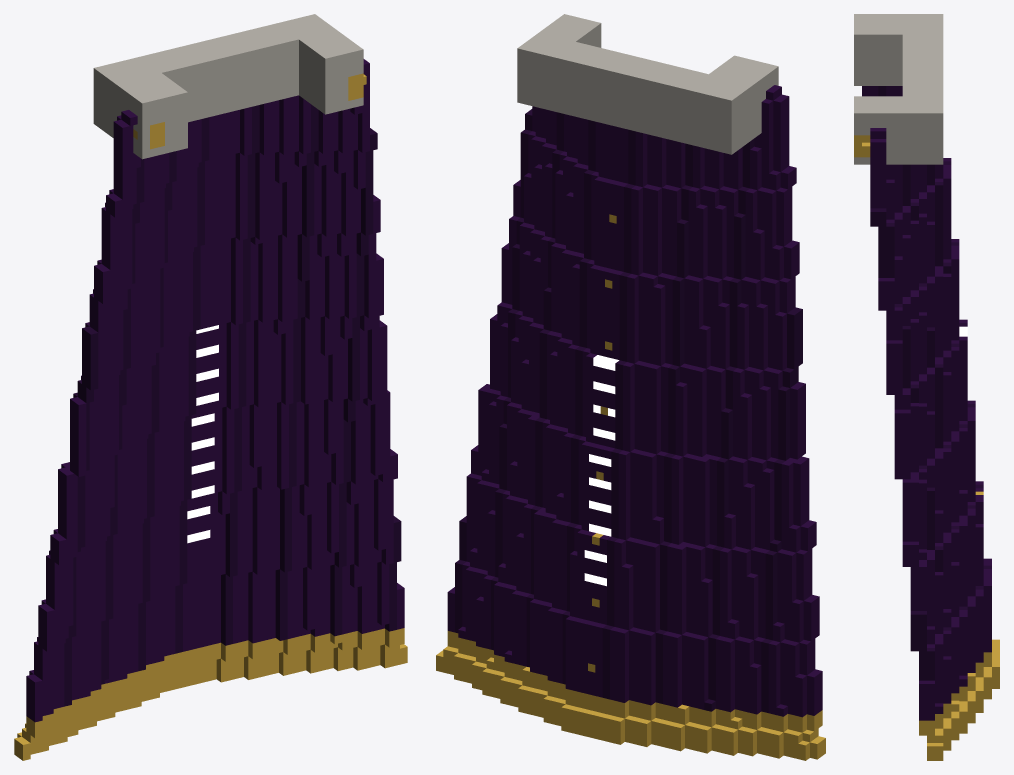
File: chain_legendary_cloak.glb
3 renders of one model, left to right at view 1: azimuth 30°, elevation 25°; view 2: azimuth 150°, elevation 25°; view 3: azimuth 270°, elevation 25°, orthographic. The views are drawn at different scales.
Parts seen in each view (by area): view 1: chain_legendary_cloak; view 2: chain_legendary_cloak; view 3: chain_legendary_cloak.
Boxes of the visible parts, x1,y1,x2,y2 form: chain_legendary_cloak: (14, 14, 407, 760); chain_legendary_cloak: (436, 14, 825, 760); chain_legendary_cloak: (854, 14, 999, 760).
Bounding box in the file's own units: 0.612 × 0.996 × 0.216.
